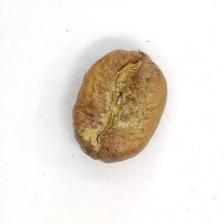NG: (81, 52, 152, 153)
